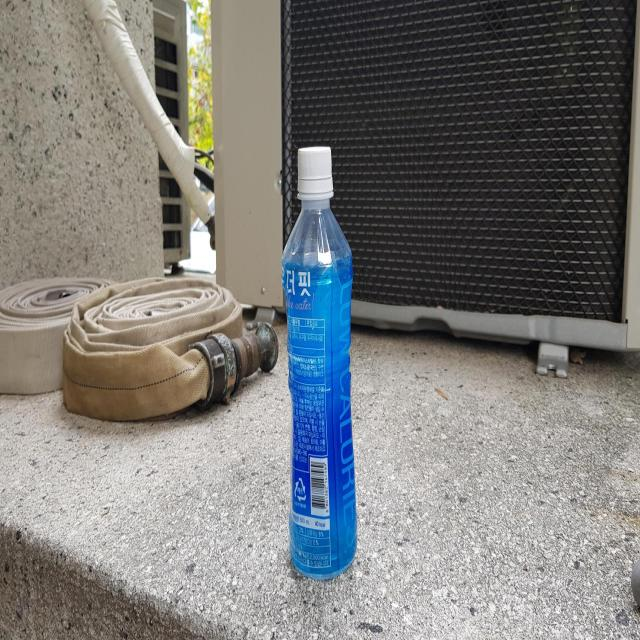plastic: (282, 145, 357, 579)
